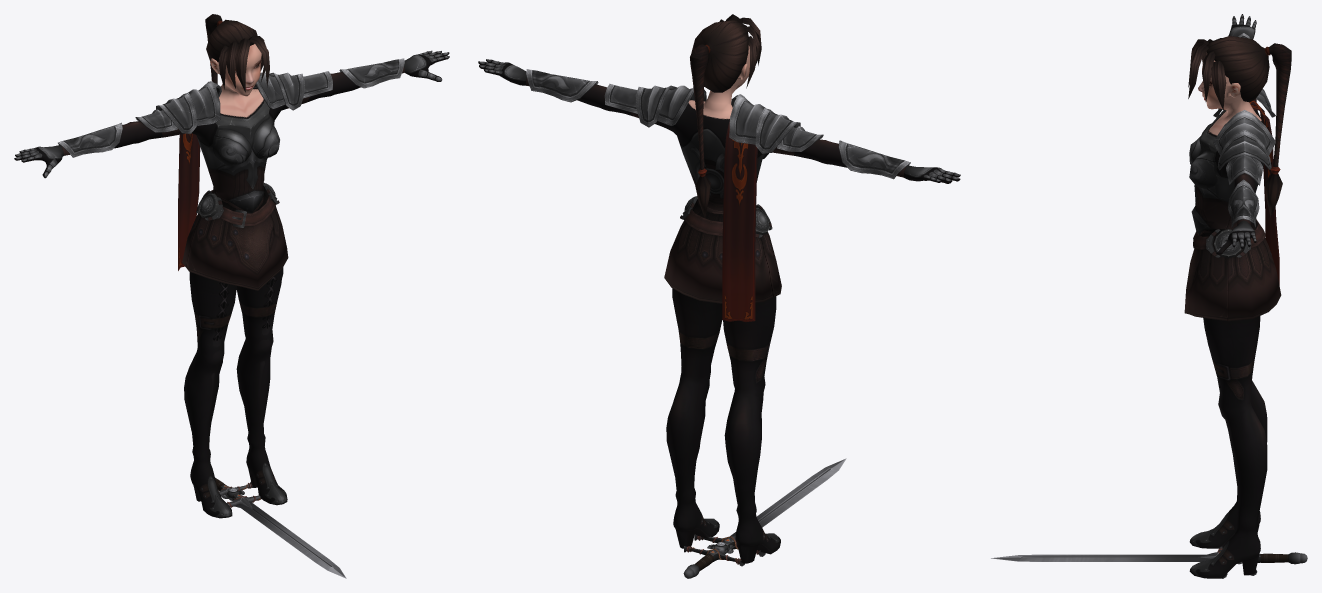
Rendered from characterMid.obj.
The picture shows the model from 3 angles, left to right: view 1: azimuth 30°, elevation 25°; view 2: azimuth 150°, elevation 25°; view 3: azimuth 270°, elevation 25°; orthographic projection. The views are drawn at different scales.
Parts seen in each view (by area): view 1: Plane002_Untitled.002, Object046_Untitled.004, Object008_Untitled, Object049_Untitled.005; view 2: Plane002_Untitled.002, Object046_Untitled.004, Object049_Untitled.005, Object008_Untitled; view 3: Plane002_Untitled.002, Object049_Untitled.005, Object008_Untitled.
Boxes of the visible parts, x1,y1,x2,y2 form: Plane002_Untitled.002: (14, 14, 449, 518); Object046_Untitled.004: (156, 81, 220, 133); Object008_Untitled: (215, 477, 346, 578); Object049_Untitled.005: (253, 72, 304, 110); Plane002_Untitled.002: (478, 14, 960, 563); Object046_Untitled.004: (729, 95, 800, 153); Object049_Untitled.005: (635, 85, 706, 127); Object008_Untitled: (687, 458, 846, 577); Plane002_Untitled.002: (1184, 14, 1291, 578); Object049_Untitled.005: (1213, 110, 1275, 170); Object008_Untitled: (991, 546, 1300, 578).
Bounding box in the file's own units: 1.64 × 1.73 × 0.9466.
